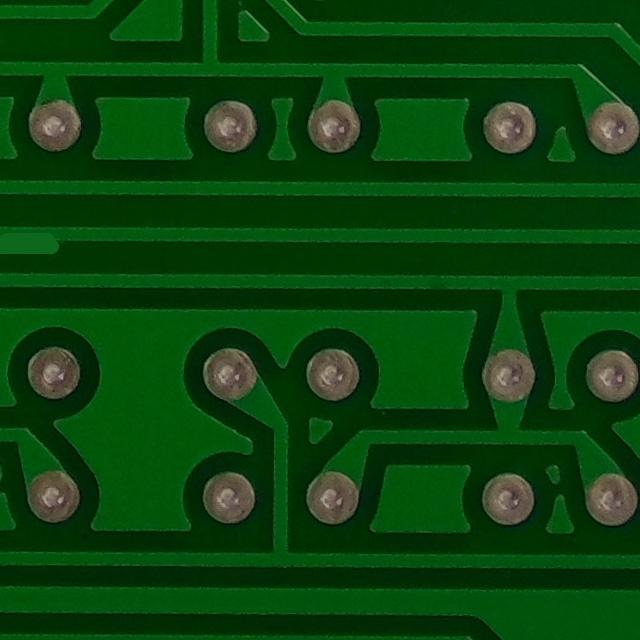spur: (0, 212, 80, 272)
